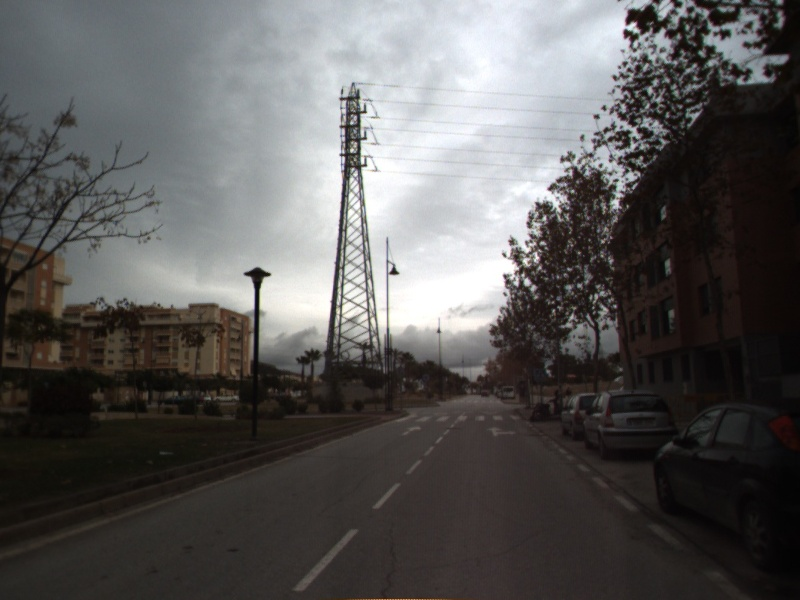STRAIGHT: (399, 423, 424, 438)
STRAIGHT_RIGHT: (485, 424, 519, 438)
